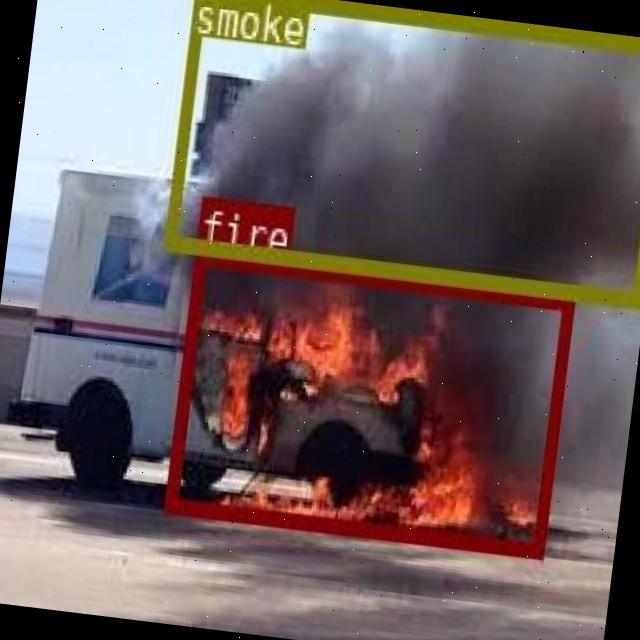fire: (164, 248, 572, 554)
smoke: (161, 0, 640, 303)
